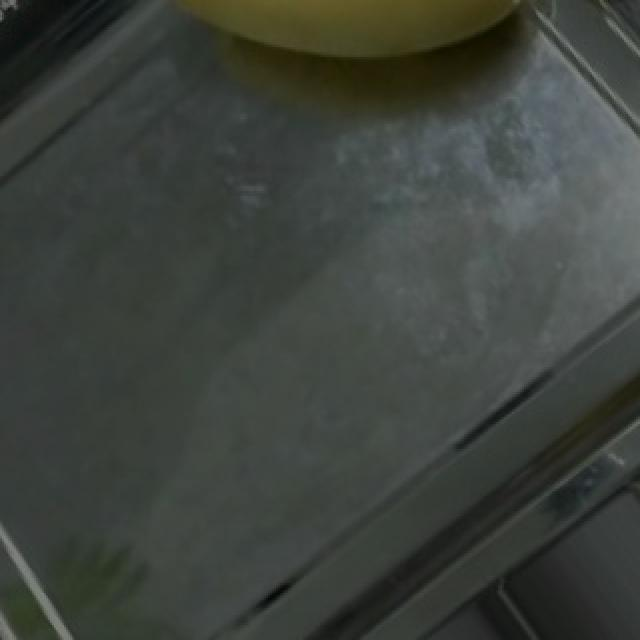fruit: (148, 0, 560, 127)
